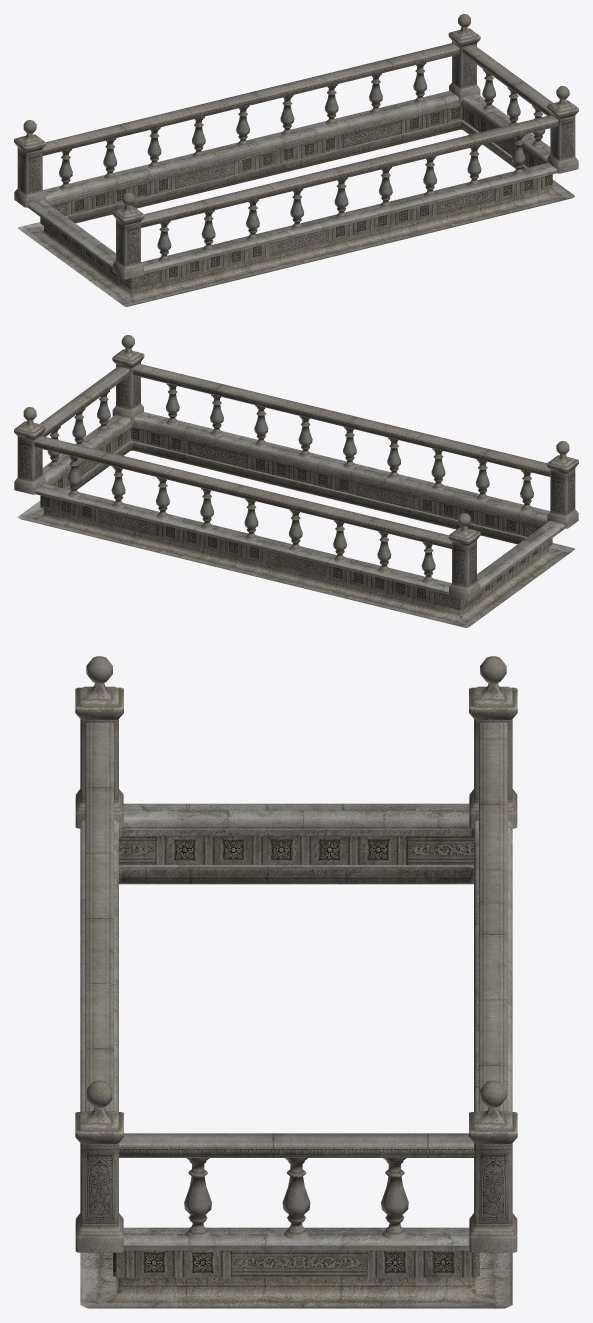
Rendered from PlantWall1.fbx.
3 renders of one model, top to bottom at view 1: azimuth 30°, elevation 25°; view 2: azimuth 150°, elevation 25°; view 3: azimuth 270°, elevation 25°, orthographic. The views are drawn at different scales.
Visible parts, largest first — view 1: LV_Campagna_Uni_InStRail01_SM_CJH; view 2: LV_Campagna_Uni_InStRail01_SM_CJH; view 3: LV_Campagna_Uni_InStRail01_SM_CJH.
Boxes of the visible parts, <box> form: LV_Campagna_Uni_InStRail01_SM_CJH: <box>14,14,578,306</box>; LV_Campagna_Uni_InStRail01_SM_CJH: <box>14,335,578,627</box>; LV_Campagna_Uni_InStRail01_SM_CJH: <box>75,656,517,1308</box>.
Size of the model in its own units: 2.73 by 0.6308 by 1.15.
Materials: 1 (1 with a texture image).
